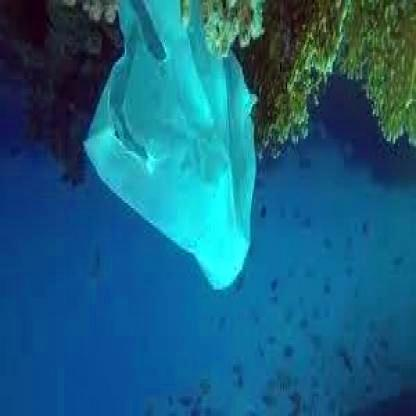pbag: (78, 3, 260, 294)
